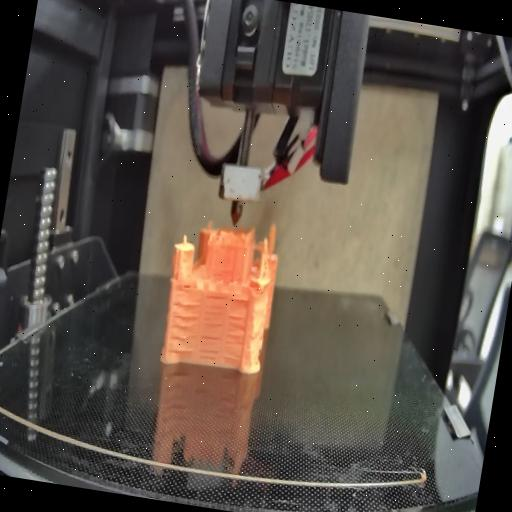cracks: (164, 300, 201, 356), (220, 310, 248, 361), (200, 288, 226, 330), (198, 334, 222, 362), (230, 294, 250, 306), (179, 278, 193, 294)
